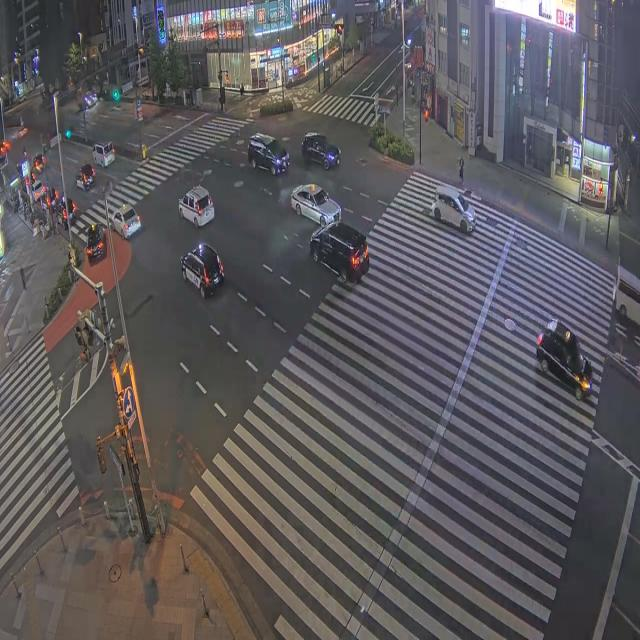car: (536, 320, 591, 400), (310, 223, 369, 282), (181, 243, 224, 297), (291, 184, 341, 226), (431, 185, 475, 232), (248, 134, 289, 175), (302, 132, 340, 169), (179, 186, 214, 226), (111, 207, 140, 239), (86, 224, 106, 262), (54, 198, 76, 228), (76, 164, 95, 191), (33, 180, 47, 202), (82, 92, 98, 110), (46, 187, 59, 207), (33, 154, 44, 173), (0, 140, 10, 154)
van: (614, 266, 639, 324), (93, 143, 115, 167)
